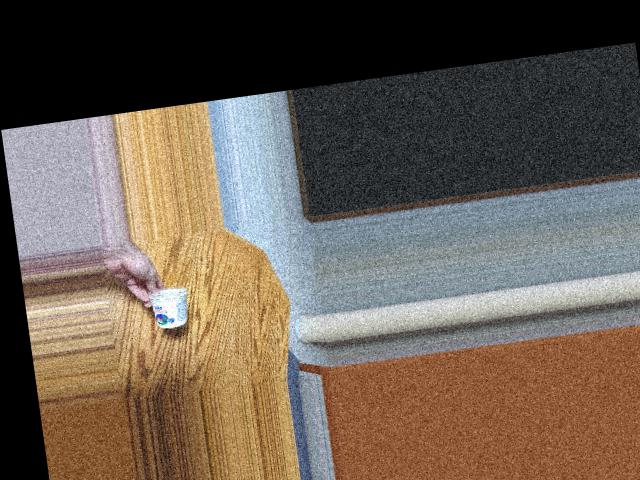cotage: (145, 284, 196, 328)
